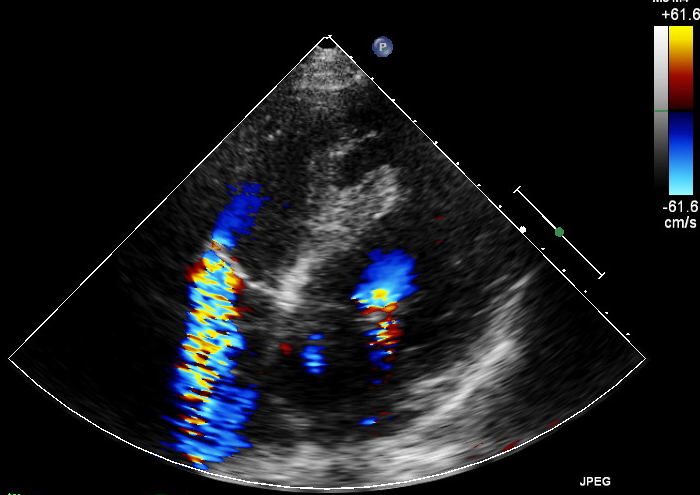MR: (317, 280, 423, 342)
